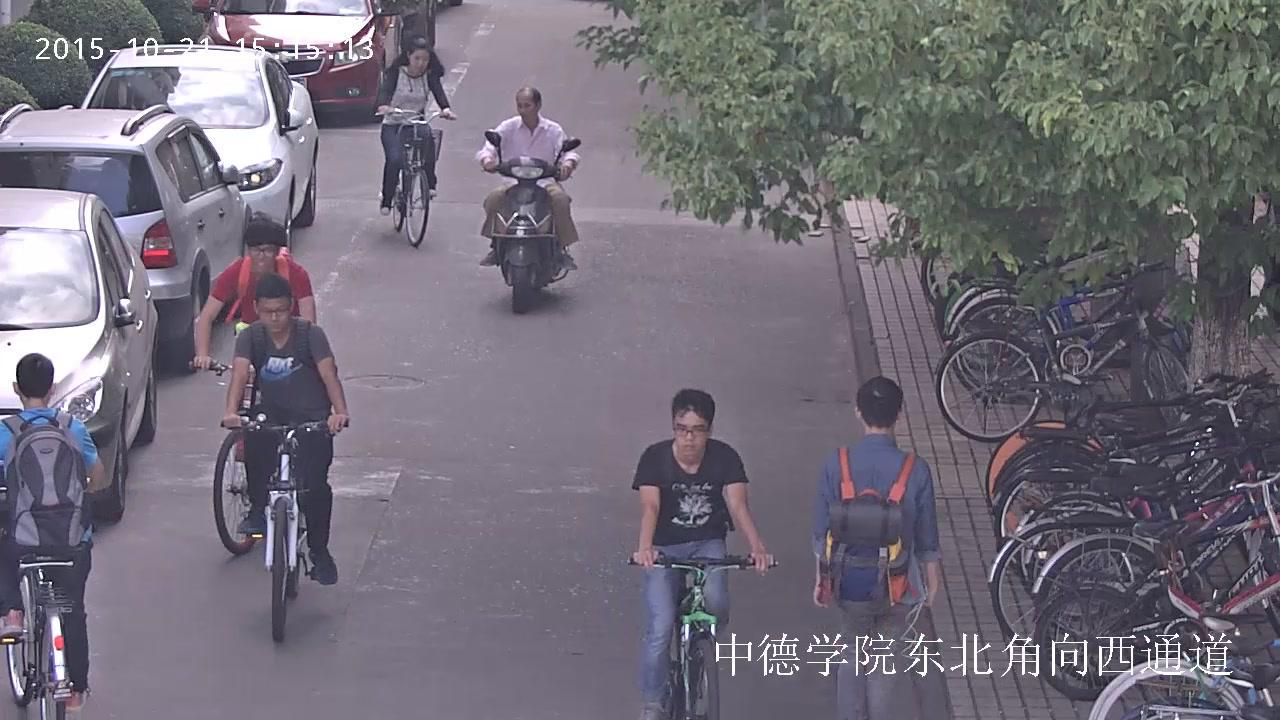face: (674, 408, 707, 455), (258, 296, 289, 332), (247, 243, 277, 272), (517, 94, 536, 121), (410, 49, 429, 71)
